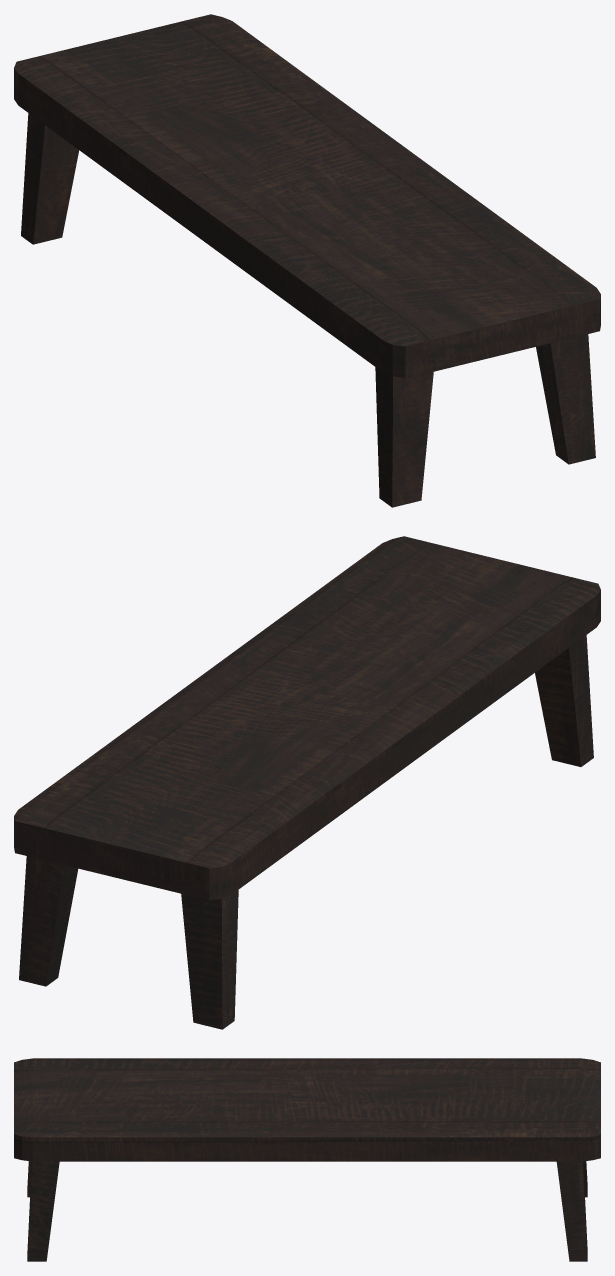
File: large table.fbx
The picture shows the model from 3 angles, top to bottom: view 1: azimuth 30°, elevation 25°; view 2: azimuth 150°, elevation 25°; view 3: azimuth 270°, elevation 25°; orthographic projection. The views are drawn at different scales.
Visible parts, largest first — view 1: Table; view 2: Table; view 3: Table.
Boxes of the visible parts, x1,y1,x2,y2 form: Table: (14,14,600,507); Table: (14,536,600,1029); Table: (14,1058,600,1261).
Bounding box in the file's own units: 200 × 151 × 629.
Materials: 1 (1 with a texture image).
